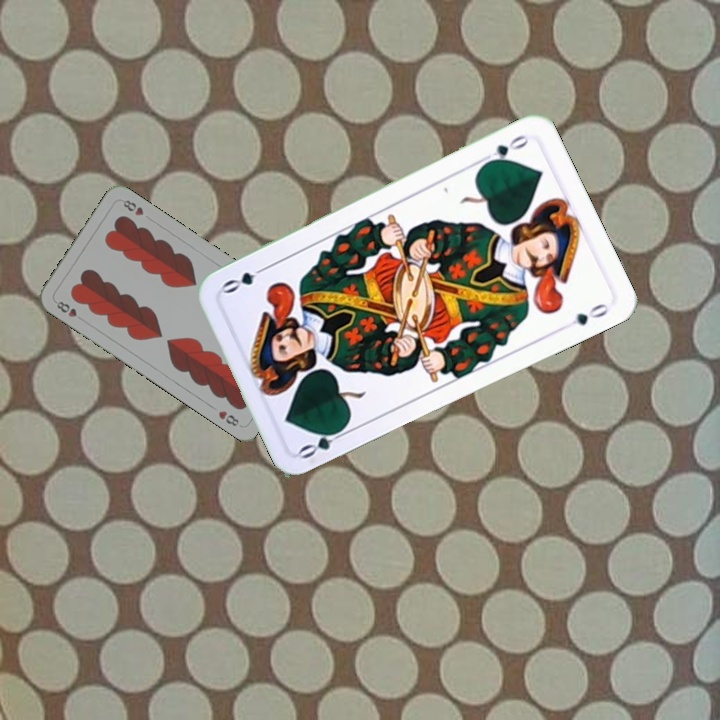GO: (295, 421, 352, 462), (477, 130, 532, 169)
H8: (52, 297, 86, 324)
